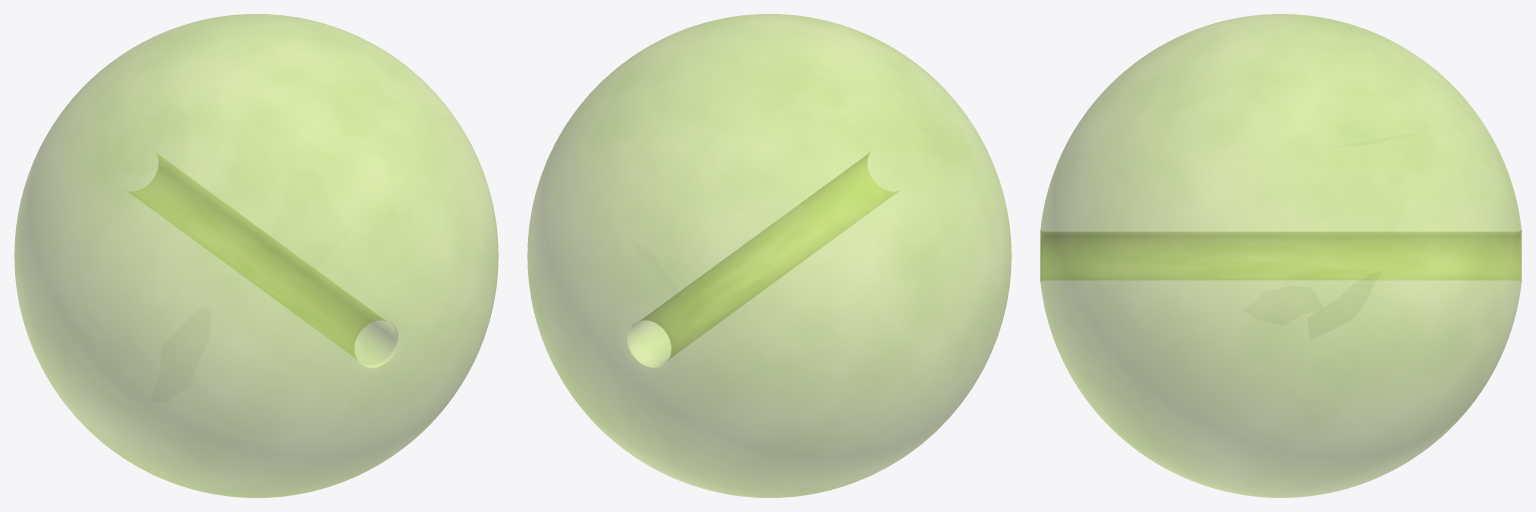
The model's file is peridot-gem-10mm.glb.
The picture shows the model from 3 angles, left to right: view 1: azimuth 30°, elevation 25°; view 2: azimuth 150°, elevation 25°; view 3: azimuth 270°, elevation 25°; orthographic projection.
Visible parts, largest first — view 1: peridot-gem.001; view 2: peridot-gem.001; view 3: peridot-gem.001.
Boxes of the visible parts, box(x1,y1,x2,y2) form: peridot-gem.001: box(14, 14, 498, 497); peridot-gem.001: box(527, 14, 1011, 497); peridot-gem.001: box(1040, 14, 1521, 497).
Bounding box in the file's own units: 0.01 × 0.01 × 0.00994.
Materials: 2 (1 with a texture image).
